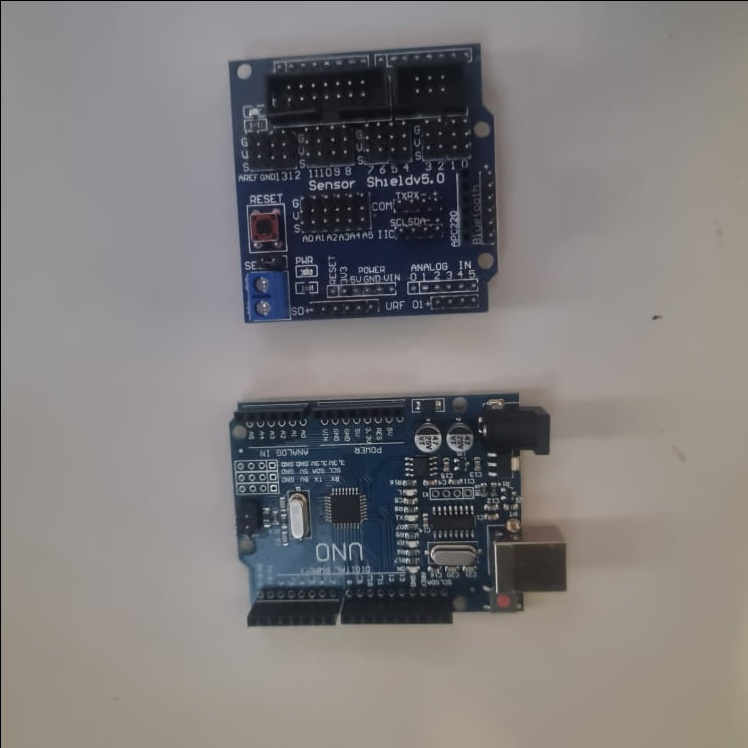5V EXPANSION: (224, 39, 500, 326)
UNO R3: (221, 399, 566, 628)
